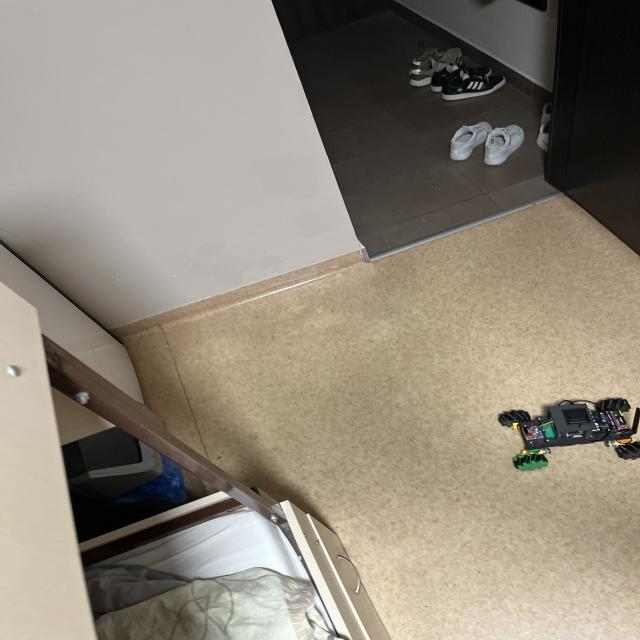robot: (498, 398, 640, 470)
